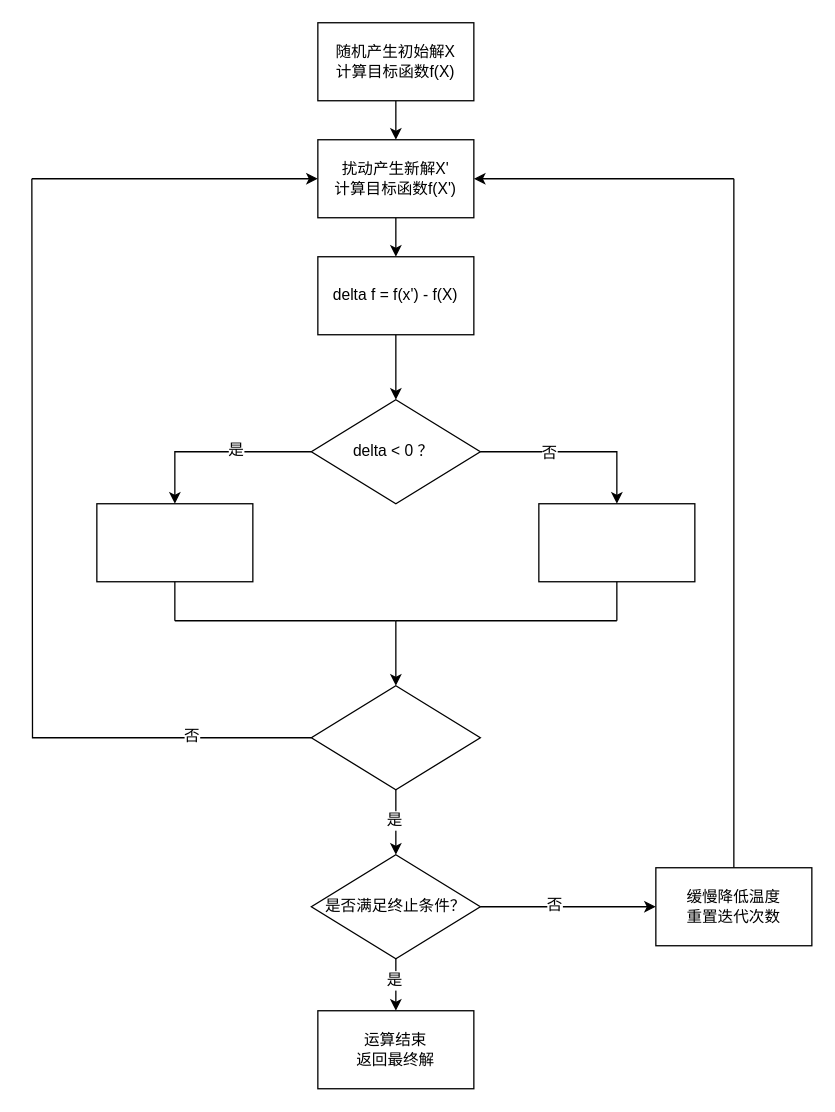
The diagram is 835 pixels wide and 1112 high, and some of its shapes have lost their labels. The centre of each missing label's shape, as x and y in pixels:
以Metropolis准则接受新解: pixel 616 542
接受新解 X=X', f(X) = f(X'): pixel 174 542
是否达到迭代次数？: pixel 395 737
